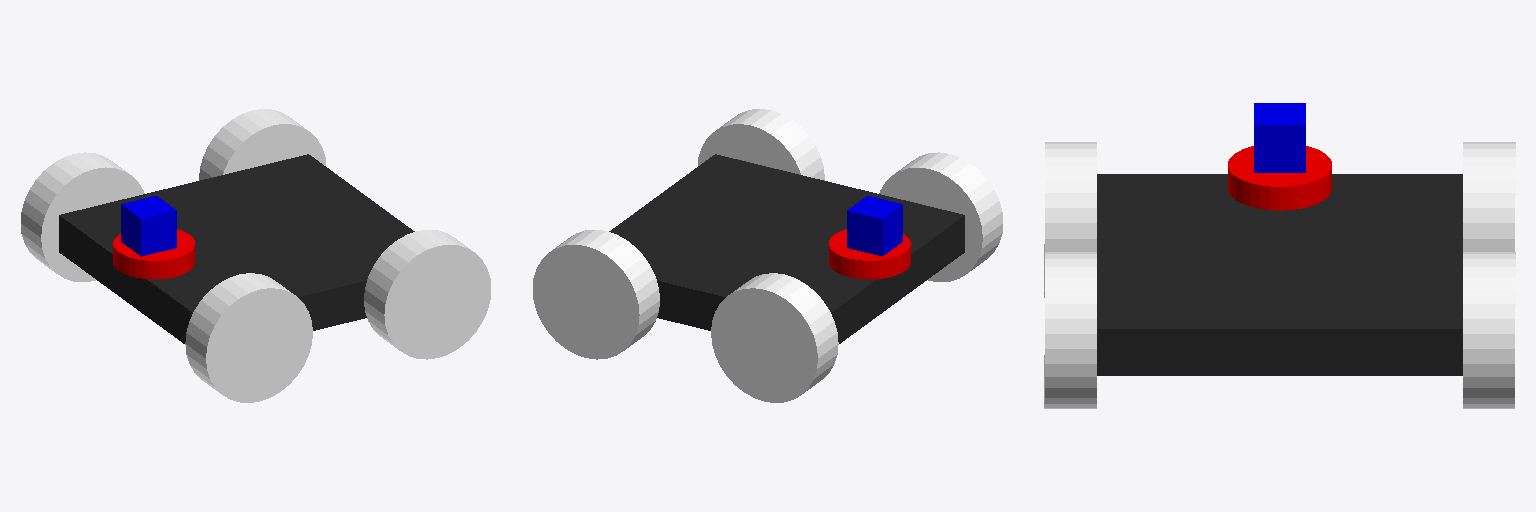
robot.urdf — test:
<?xml version="1.0" ?>
  <robot name="test">

<link name="base_footprint"/>


  <link name="chassis">
    <visual>
      <geometry>
          <box size=".7 0.7 0.1"/>
      </geometry>
      <material name="gray">
        <color rgba=".2 .2 .2 1" />
      </material>
    </visual>
  <inertial>
            <mass value="2" />
            <inertia ixx="0.126" ixy="0.0" ixz="0" 
            iyy="0.216" iyz="0" izz="0.281" />
    </inertial>
    
    <collision>
      <geometry>
          <box size=".7 0.7 0.1"/>
      </geometry>
    </collision>
  </link>

  <joint name="base_joint" type="fixed">
  <origin xyz="0.0 0.0 0.15" rpy="0.0 0.0 0.0"/>
    <parent link="base_footprint"/>
    <child link="chassis"/>
  </joint>

  <link name="wheel_front_right">
    <inertial>
            <mass value="2" />
            <inertia ixx="1e-3" ixy="0.0" ixz="0" 
            iyy="1e-3" iyz="0" izz="1e-3" />
    </inertial>

    <visual>
      
      <geometry>
          <cylinder radius="0.15" length="0.1"/>
      </geometry>
      <material name="white">
        <color rgba="1 1 1 1"/>
      </material>
    </visual>

    <collision>
    
      <geometry>
          <cylinder radius="0.15" length="0.1"/>
      </geometry>
      <contact_coefficients mu="1" kp="1e+13" kd="1.0"/>
    </collision>
  </link>

  <joint name="wheel_front_right_joint" type="continuous">
    <origin xyz="0.25 0.4 0.0" rpy="1.57 0.0 0.0"/>
    <parent link="chassis"/>
    <child link="wheel_front_right"/>
    <axis xyz="0.0 0.0 1.0"/>
  </joint>

  <link name="wheel_front_left">
    <inertial>
            <mass value="2" />
            <inertia ixx="1e-3" ixy="0.0" ixz="0" 
            iyy="1e-3" iyz="0" izz="1e-3" />
    </inertial>

    <visual>
      
      <geometry>
          <cylinder radius="0.15" length="0.1"/>
      </geometry>
      <material name="white">
        <color rgba="1 1 1 1"/>
      </material>
    </visual>

    <collision>
      <geometry>
          <cylinder radius="0.15" length="0.1"/>
      </geometry>
      <contact_coefficients mu="1" kp="1e+13" kd="1.0"/>
    </collision>
  </link>

  <joint name="wheel_front_left_joint" type="continuous">
    <origin xyz="0.25 -0.4 0.0" rpy="1.57 0.0 0.0"/>
    <parent link="chassis"/>
    <child link="wheel_front_left"/>
    <axis xyz="0.0 0.0 1.0"/>

  </joint>

<link name="wheel_back_right">
    <inertial>
            <mass value="2" />
            <inertia ixx="1e-3" ixy="0.0" ixz="0" 
            iyy="1e-3" iyz="0" izz="1e-3" />
    </inertial>

    <visual>
      
      <geometry>
          <cylinder radius="0.15" length="0.1"/>
      </geometry>
      <material name="white">
        <color rgba="1 1 1 1"/>
      </material>
    </visual>

    <collision>
      <geometry>
          <cylinder radius="0.15" length="0.1"/>
      </geometry>
      <contact_coefficients mu="1" kp="1e+13" kd="1.0"/>
    </collision>
  </link>

  <joint name="wheel_back_right_joint" type="continuous">
    <origin xyz="-0.25 0.4 0.0" rpy="1.57 0.0 0.0"/>
    <parent link="chassis"/>
    <child link="wheel_back_right"/>
    <axis xyz="0.0 0.0 1.0"/>

  </joint>

  <link name="wheel_back_left">
    <inertial>
            <mass value="2" />
            <inertia ixx="1e-3" ixy="0.0" ixz="0" 
            iyy="1e-3" iyz="0" izz="1e-3" />
    </inertial>

    <visual>
      
      <geometry>
          <cylinder radius="0.15" length="0.1"/>
      </geometry>
      <material name="white">
        <color rgba="1 1 1 1"/>
      </material>
    </visual>

    <collision>
      <geometry>
          <cylinder radius="0.15" length="0.1"/>
      </geometry>
      <contact_coefficients mu="1" kp="1e+13" kd="1.0"/>
    </collision>
  </link>

  <joint name="wheel_back_left_joint" type="continuous">
    <origin xyz="-0.25 -0.4 0.0" rpy="1.57 0.0 0.0"/>
    <parent link="chassis"/>
    <child link="wheel_back_left"/>
    <axis xyz="0.0 0.0 1.0"/>

  </joint>

  <link name="camera">
    <inertial>
            <mass value="0.5" />
            <inertia ixx="0.1" ixy="0.0" ixz="0" 
            iyy="0.1" iyz="0" izz="0.1" />
    </inertial>

    <visual>
      
      <origin xyz="0.05 0.0 0.0"/>
      <geometry>
        <box size="0.1 0.1 0.1"/>
      </geometry>
      <material name="blue">
        <color rgba="0 0 1 1"/>
      </material>
    </visual>

    <collision>
      <geometry>
          <box size="0.1 0.1 0.1"/>
      </geometry>
    </collision>
  </link>

  <joint name="camera_joint" type="fixed">
    <origin xyz="-0.25 0 0.15" rpy="0 0.0 3.14"/>
    <parent link="chassis"/>
    <child link="camera"/>
    <axis xyz="0.0 0.0 1.0"/>

  </joint>

  <link name="lidar">
    <inertial>
            <mass value="0.5" />
            <inertia ixx="0.1" ixy="0.0" ixz="0" 
            iyy="0.1" iyz="0" izz="0.1" />
    </inertial>

    <visual>
      <origin xyz="0.05 0.0 0.0"/>
      <geometry>
        <cylinder radius="0.1" length="0.05"/>
      </geometry>
      <material name="red">
        <color rgba="1 0 0  1"/>
      </material>
    </visual>

    <collision>
      <geometry>
          <box size="0.1 0.1 0.1"/>
      </geometry>
    </collision>
  </link>

  <joint name="lidar_joint" type="fixed">
    <origin xyz="-0.235 0 0.075" rpy="0 0.0 3.14"/>
    <parent link="chassis"/>
    <child link="lidar"/>
    <axis xyz="0.0 0.0 1.0"/>

  </joint>



<!-- DIFFENERNTIAL DRIVEEEEEEEEEEEEE -->

  <gazebo>
<plugin name='diff_drive' filename='libgazebo_ros_diff_drive.so'>

        <!-- <ros>
          <namespace>/demo</namespace>
          <remapping>cmd_vel:=cmd_demo</remapping>
          <remapping>odom:=odom_demo</remapping>
        </ros> -->

        <!-- wheels -->
        <left_joint>wheel_back_left_joint</left_joint>
        <right_joint>wheel_back_right_joint</right_joint>

        <!-- kinematics -->
        <wheel_separation>0.8</wheel_separation>
        <wheel_diameter>0.3</wheel_diameter>

        <!-- limits -->
        <max_wheel_torque>20</max_wheel_torque>
        <max_wheel_acceleration>1.0</max_wheel_acceleration>

        <!-- output -->
        <publish_odom>true</publish_odom>
        <publish_odom_tf>true</publish_odom_tf>
        <publish_wheel_tf>true</publish_wheel_tf>

        <odometry_frame>base_footprint</odometry_frame>
        <robot_base_frame>chassis</robot_base_frame>

      </plugin>
</gazebo>




<!-- CAMERAAAAAAAAAAAAAAAAAAAAAAAAAAAAAA -->
      <gazebo reference="camera">
    <sensor type="camera" name="camera1">
      <update_rate>30.0</update_rate>
      <camera name="head">
        <horizontal_fov>1.3962634</horizontal_fov>
        <image>
          <width>800</width>
          <height>800</height>
          <format>R8G8B8</format>
        </image>
        <clip>
          <near>0.02</near>
          <far>300</far>
        </clip>
        <noise>
          <type>gaussian</type>
          <!-- Noise is sampled independently per pixel on each frame.
               That pixel's noise value is added to each of its color
               channels, which at that point lie in the range [0,1]. -->
          <mean>0.0</mean>
          <stddev>0.007</stddev>
        </noise>
      </camera>
      <plugin name="camera_controller" filename="libgazebo_ros_camera.so">
        <alwaysOn>true</alwaysOn>
        <updateRate>0.0</updateRate>
        <cameraName>/camera</cameraName>
        <imageTopicName>image_raw</imageTopicName>
        <cameraInfoTopicName>camera_info</cameraInfoTopicName>
        <frameName>camera_link</frameName>
        <hackBaseline>0.07</hackBaseline>
      </plugin>
    </sensor>
  </gazebo>
<!-- LIDAAAAAAAAAAAAAAAAAAAAAAAAAAR -->
   <gazebo reference="lidar">
    <sensor name="gazebo_lidar" type="ray">
      <update_rate>12.0</update_rate>
      <plugin filename="libgazebo_ros_ray_sensor.so" name="gazebo_lidar">
        <ros>
          <remapping>~/out:=scan</remapping>
        </ros>
        <output_type>sensor_msgs/LaserScan</output_type>
        <frame_name>lidar</frame_name>
      </plugin>
      <ray>
        <scan>
          <horizontal>
            <samples>360</samples>
            <resolution>1</resolution>
            <min_angle>0.00</min_angle>
            <max_angle>3.14</max_angle>
          </horizontal>
        </scan>
        <range>
          <min>0.120</min>
          <max>3.5</max>
          <resolution>0.015</resolution>
        </range>
        <noise>
          <type>gaussian</type>
          <mean>0.0</mean>
          <stddev>0.01</stddev>
        </noise>
      </ray>
    </sensor>
    <material>Gazebo/DarkGrey</material>
  </gazebo>

</robot>

--- What the picture shows (computed from the rendered views, not written in the file) ---
The picture shows the robot from 3 angles, left to right: view 1: azimuth 30°, elevation 25°; view 2: azimuth 150°, elevation 25°; view 3: azimuth 270°, elevation 25°; orthographic projection.
Robot: test — 8 links, 7 joints (4 continuous, 3 fixed); root link base_footprint; default pose: every joint at zero.
Visible links, largest first — view 1: chassis, wheel_back_left, wheel_front_left, wheel_back_right, wheel_front_right, camera, lidar; view 2: chassis, wheel_back_right, wheel_front_right, wheel_back_left, wheel_front_left, camera, lidar; view 3: chassis, wheel_front_right, wheel_front_left, wheel_back_right, wheel_back_left, lidar, camera.
Link boxes in pixels (x1,y1,x2,y2): chassis: (59, 154, 414, 343); wheel_back_left: (185, 273, 312, 402); wheel_front_left: (364, 230, 490, 359); wheel_back_right: (21, 152, 144, 281); wheel_front_right: (199, 109, 325, 180); camera: (121, 196, 176, 256); lidar: (113, 229, 194, 279); chassis: (609, 154, 964, 343); wheel_back_right: (711, 273, 838, 402); wheel_front_right: (533, 230, 659, 359); wheel_back_left: (879, 152, 1002, 281); wheel_front_left: (698, 109, 824, 180); camera: (847, 196, 902, 256); lidar: (829, 229, 910, 279); chassis: (1097, 174, 1462, 375); wheel_front_right: (1463, 252, 1515, 408); wheel_front_left: (1044, 252, 1096, 408); wheel_back_right: (1463, 142, 1515, 251); wheel_back_left: (1044, 142, 1096, 297); lidar: (1228, 146, 1331, 210); camera: (1254, 103, 1305, 172).
Bounding box of the posed robot: 0.8 × 0.9002 × 0.35 m (x, y, z).
Geometry: primitives only (box / cylinder / sphere), no mesh files.
